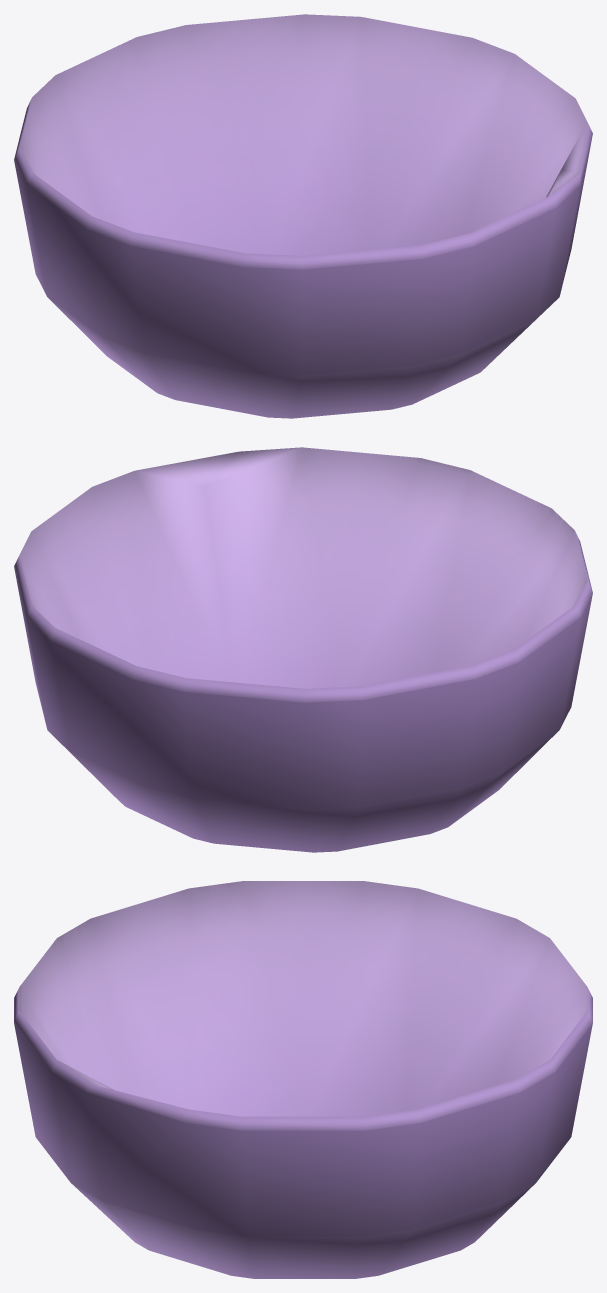
Rendered from Bowl_B.FBX.
3 views of the same model, one above another, from view 1: azimuth 30°, elevation 25°; view 2: azimuth 150°, elevation 25°; view 3: azimuth 270°, elevation 25° (orthographic).
Parts seen in each view (by area): view 1: Bowl; view 2: Bowl; view 3: Bowl.
Boxes of the visible parts, box(x1,y1,x2,y2) form: Bowl: box(14, 14, 592, 418); Bowl: box(14, 447, 592, 852); Bowl: box(14, 881, 592, 1278).
Size of the model in its own units: 74.62 by 28.7 by 75.96.
